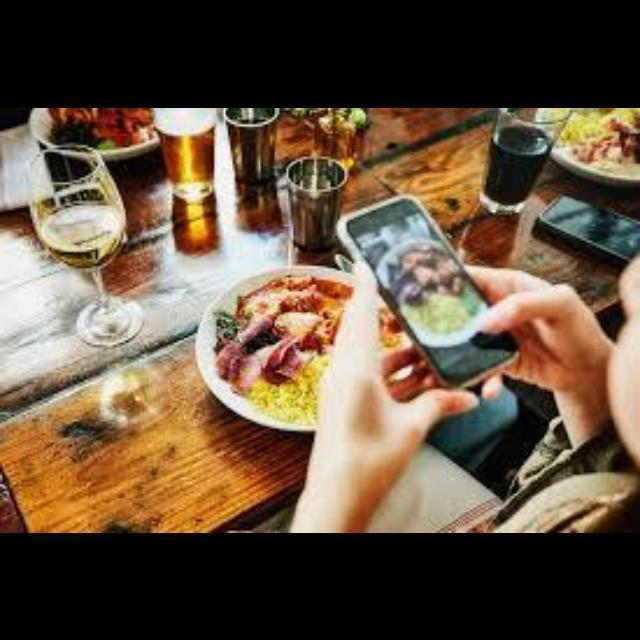phone: (331, 193, 543, 395)
